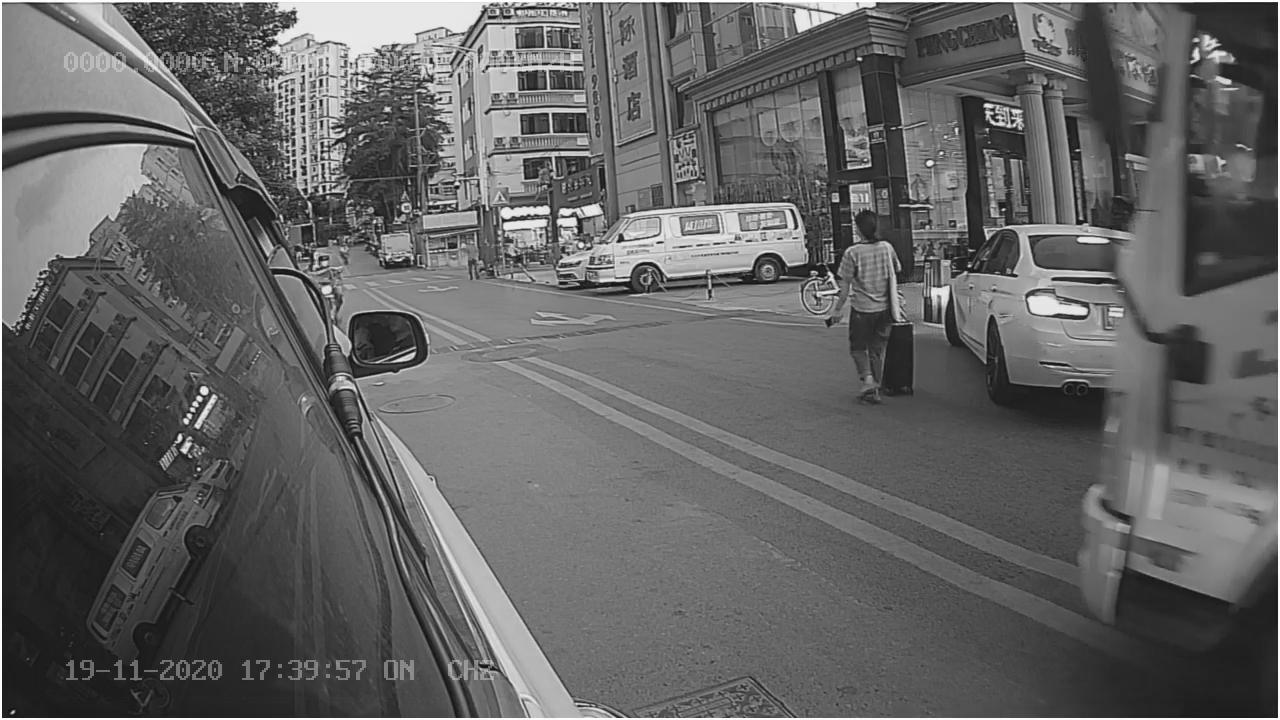person: (831, 211, 915, 396)
